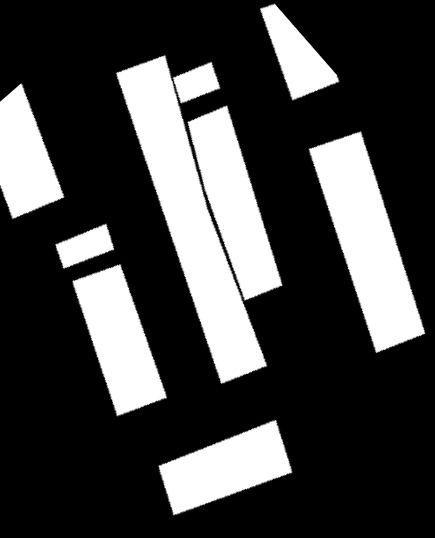parkingspot: (116, 55, 267, 384), (309, 131, 425, 353), (188, 106, 282, 300), (72, 264, 167, 416), (158, 420, 292, 515), (0, 84, 64, 219), (260, 4, 339, 100), (55, 224, 114, 269)
